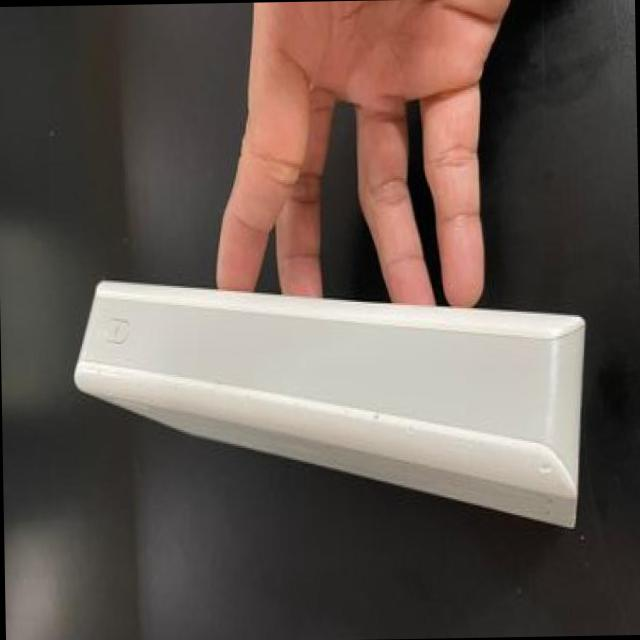portable-charger: (62, 262, 594, 544)
